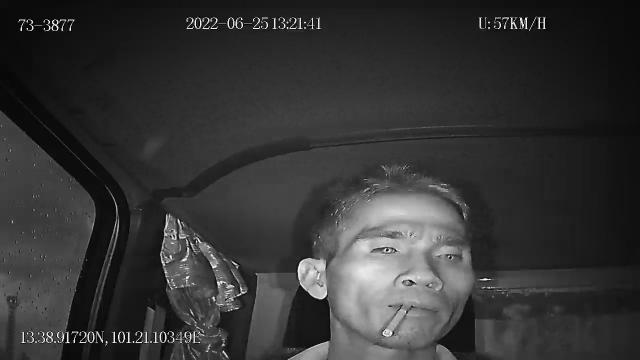SafeDriving: (364, 238, 407, 260), (430, 243, 470, 266)
Smoking: (382, 304, 412, 336)
